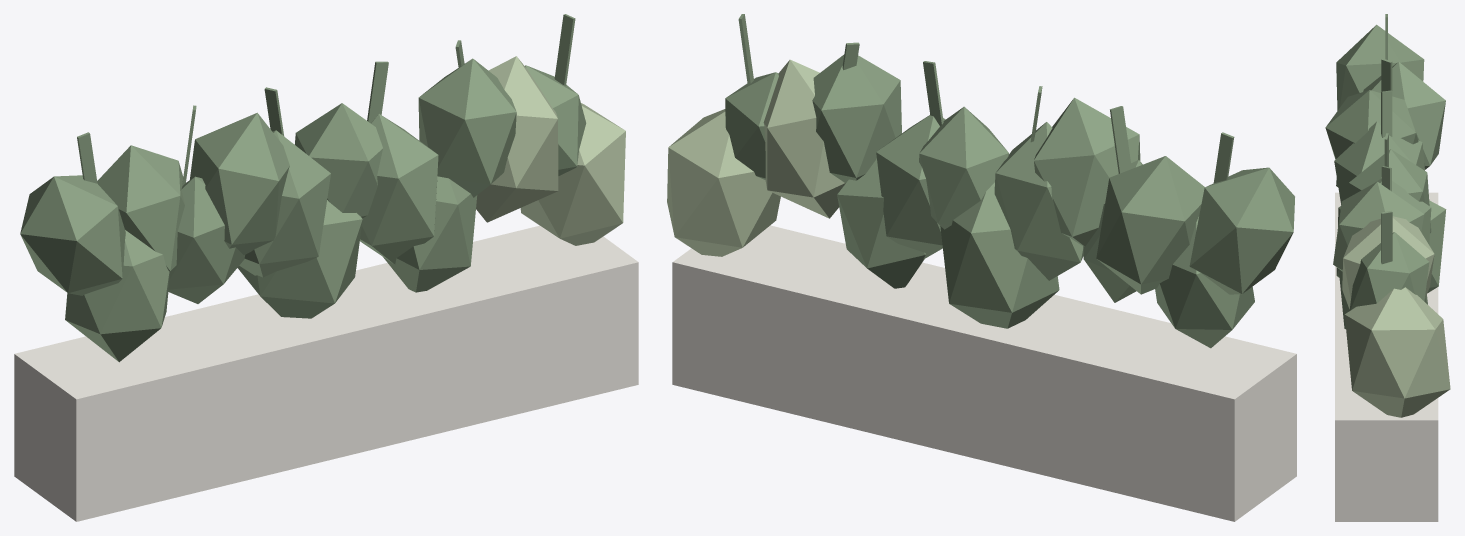
The model's file is planter_divider.glb.
The picture shows the model from 3 angles, left to right: view 1: azimuth 30°, elevation 25°; view 2: azimuth 150°, elevation 25°; view 3: azimuth 270°, elevation 25°; orthographic projection. The views are drawn at different scales.
Parts seen in each view (by area): view 1: planter_divider; view 2: planter_divider; view 3: planter_divider.
Part boxes in pixels (left/top/right/bottom): planter_divider: left=14, top=14, right=638, bottom=521; planter_divider: left=667, top=14, right=1296, bottom=521; planter_divider: left=1325, top=14, right=1450, bottom=521.
Size of the model in its own units: 2.62 by 1.45 by 0.5578.
